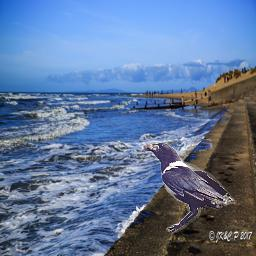Crow: (141, 142, 237, 232)
